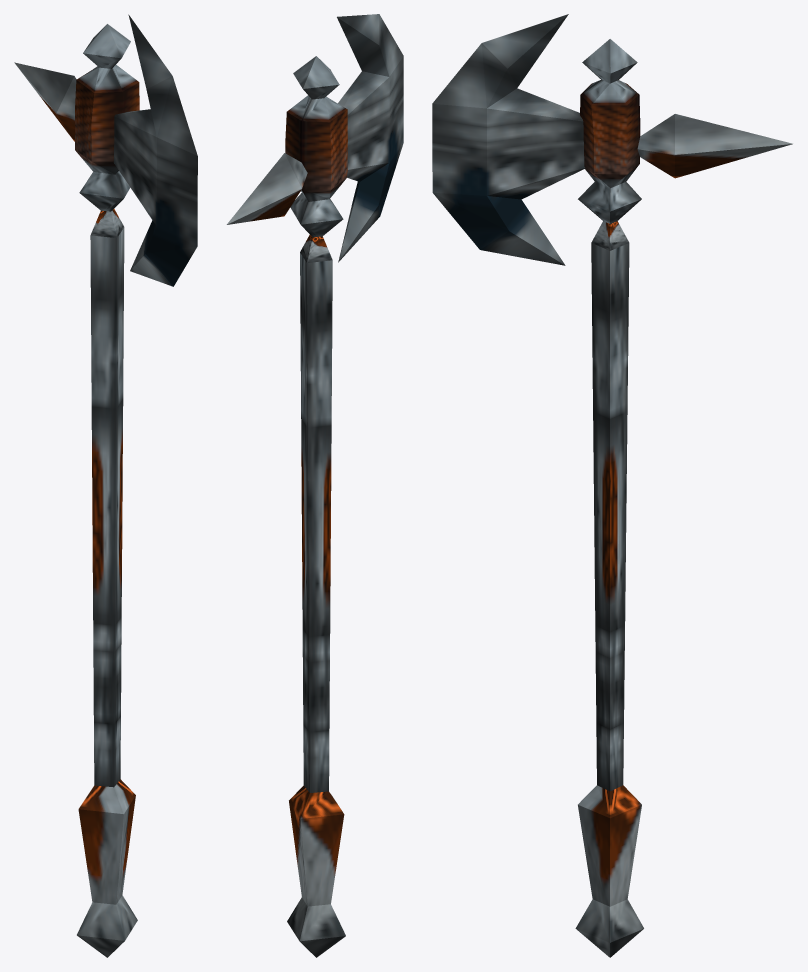
Rendered from heavyaxeman01_1.obj.
The picture shows the model from 3 angles, left to right: view 1: azimuth 30°, elevation 25°; view 2: azimuth 150°, elevation 25°; view 3: azimuth 270°, elevation 25°; orthographic projection. The views are drawn at different scales.
Visible parts, largest first — view 1: heavyaxeman01_1; view 2: heavyaxeman01_1; view 3: heavyaxeman01_1.
Boxes of the visible parts, <box> form: heavyaxeman01_1: <box>14,14,197,957</box>; heavyaxeman01_1: <box>226,14,403,957</box>; heavyaxeman01_1: <box>432,14,792,957</box>.
Bounding box in the file's own units: 0.1988 × 2.97 × 1.03.
